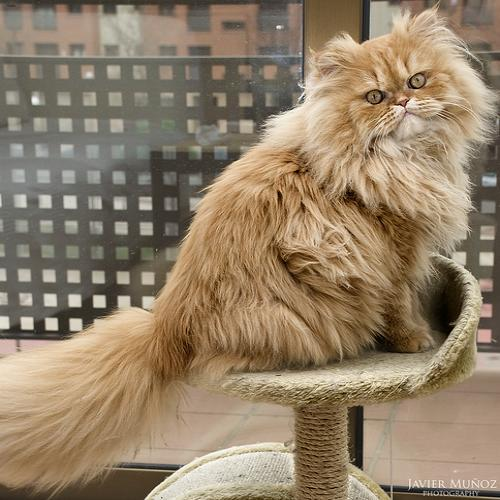persian: (296, 6, 496, 182)
